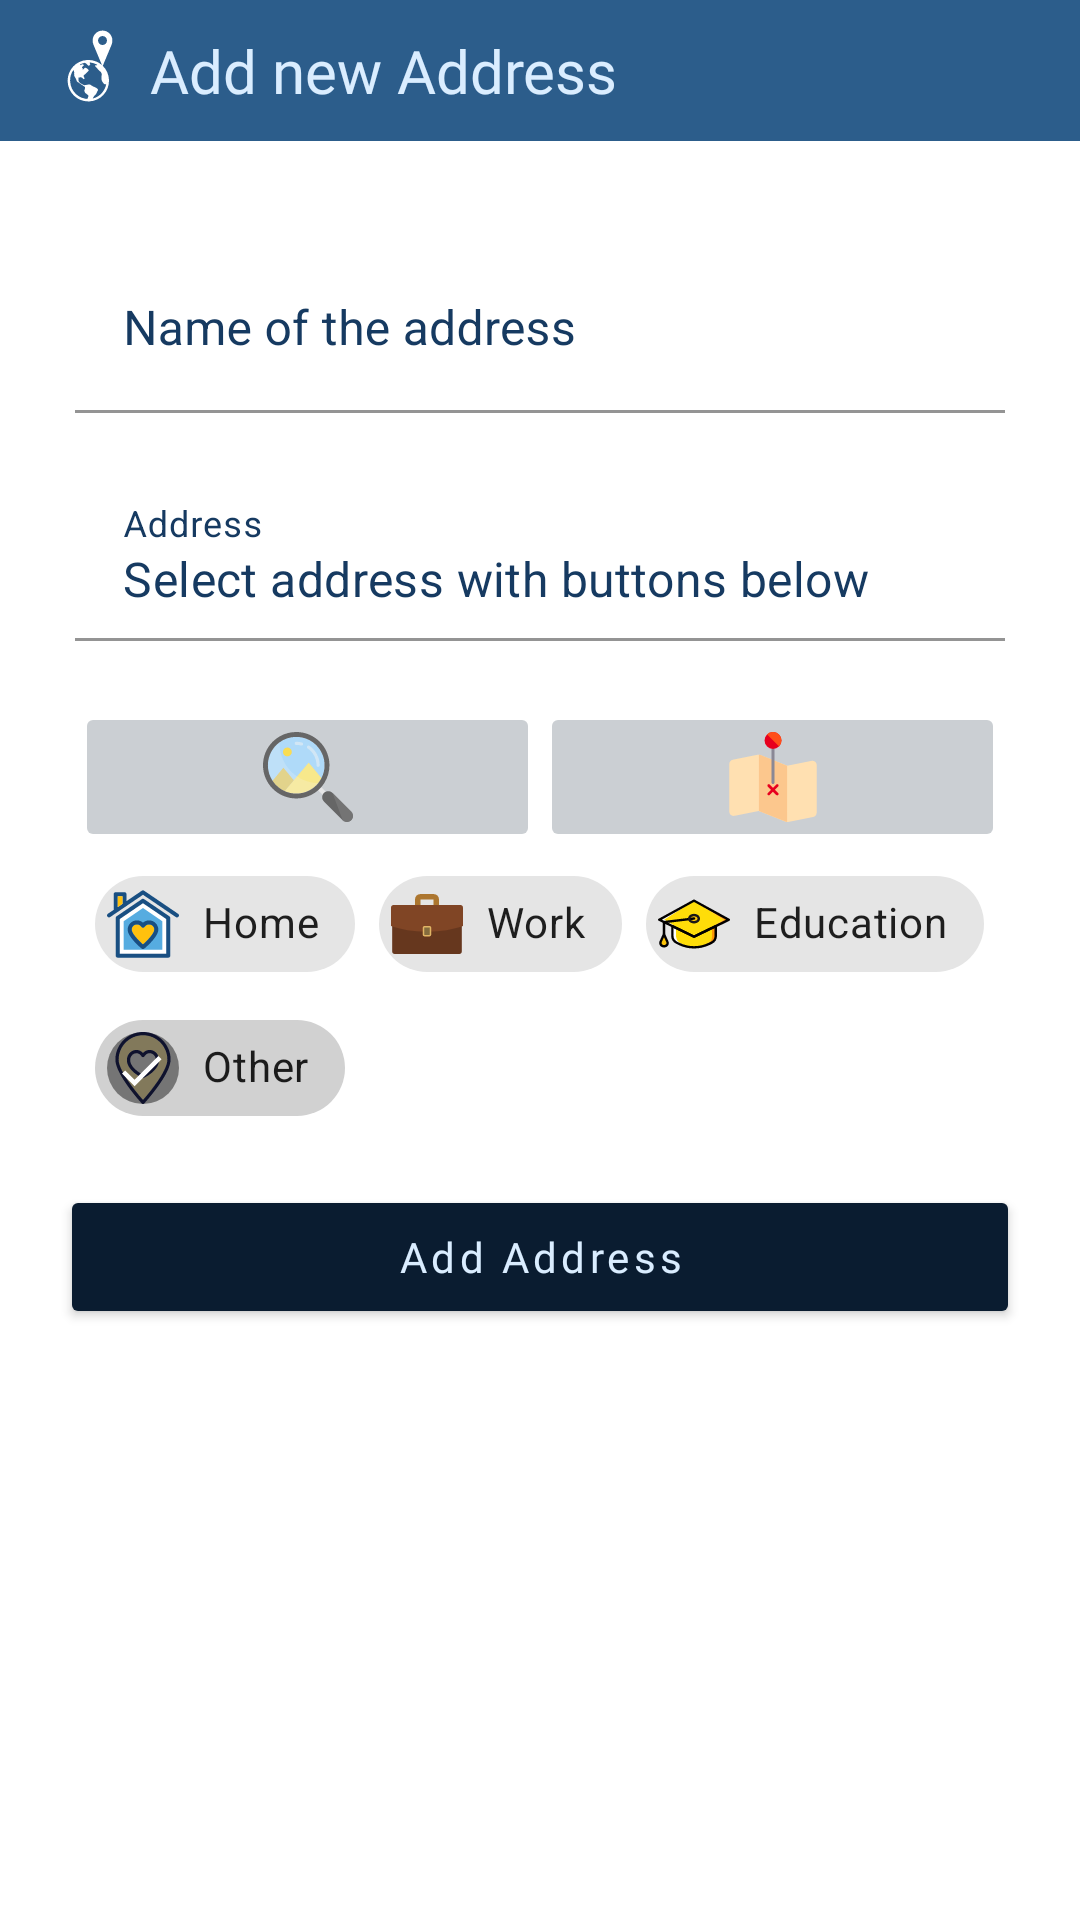

Icons on this 1080 x 1920 Android screen, each with its box as (x1, y1, x2, y2):
place info address: (67, 30, 113, 102)
